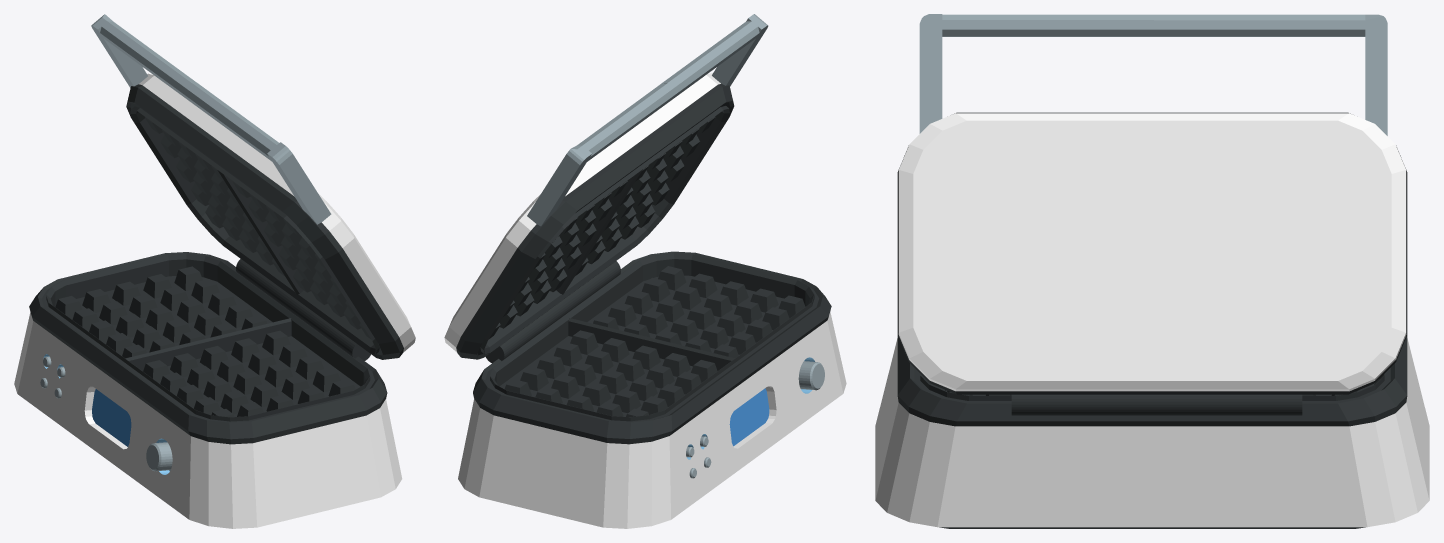
File: Gofrownica.v2.fbx
3 views of the same model, side by side, from view 1: azimuth 30°, elevation 25°; view 2: azimuth 150°, elevation 25°; view 3: azimuth 270°, elevation 25° (orthographic). The views are drawn at different scales.
Parts seen in each view (by area): view 1: Gofrownica.v2; view 2: Gofrownica.v2; view 3: Gofrownica.v2.
Part boxes in pixels (bbox=[...]): Gofrownica.v2: bbox=[14, 14, 415, 528]; Gofrownica.v2: bbox=[444, 14, 846, 528]; Gofrownica.v2: bbox=[875, 14, 1429, 528].
Bounding box in the file's own units: 1.6 × 2.34 × 2.62.
